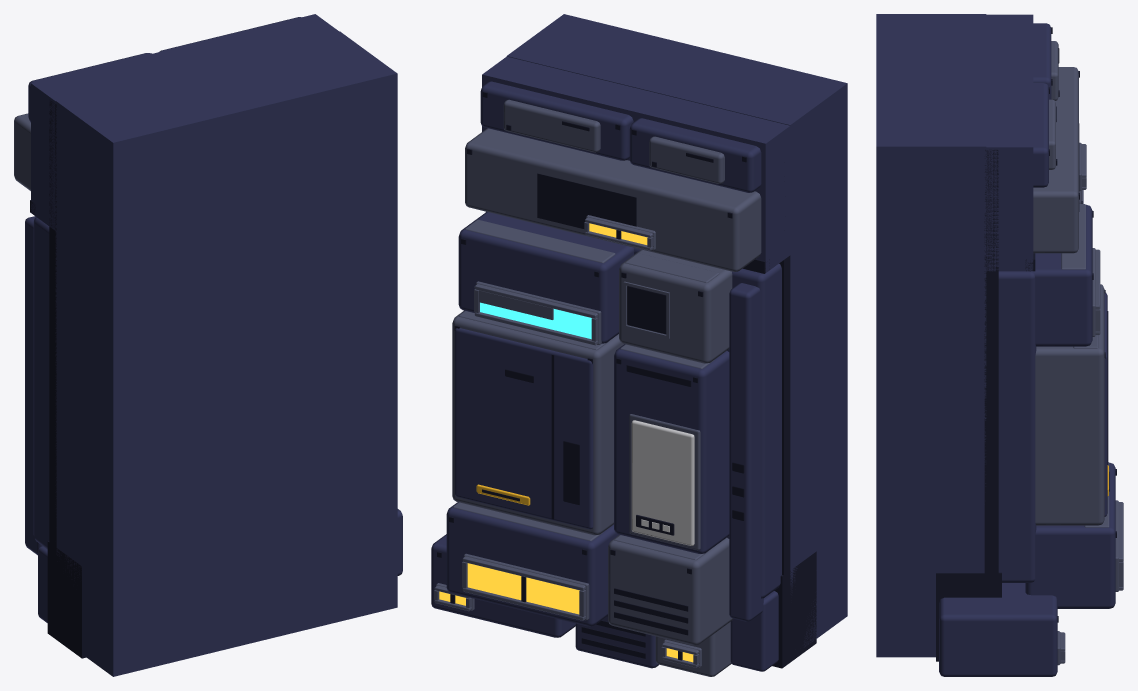
The model's file is hull.bay.navy.navy.none.mixed.w2.000.s5.k-2.35.glb.
The picture shows the model from 3 angles, left to right: view 1: azimuth 30°, elevation 25°; view 2: azimuth 150°, elevation 25°; view 3: azimuth 270°, elevation 25°; orthographic projection. The views are drawn at different scales.
Parts seen in each view (by area): view 1: hull.bay.navy.navy.none.mixed.w2.000.s5.k-2.35; view 2: hull.bay.navy.navy.none.mixed.w2.000.s5.k-2.35; view 3: hull.bay.navy.navy.none.mixed.w2.000.s5.k-2.35.
Part boxes in pixels (x1,y1,x2,y2): hull.bay.navy.navy.none.mixed.w2.000.s5.k-2.35: [14, 14, 402, 676]; hull.bay.navy.navy.none.mixed.w2.000.s5.k-2.35: [431, 14, 847, 676]; hull.bay.navy.navy.none.mixed.w2.000.s5.k-2.35: [876, 14, 1123, 676].
Bounding box in the file's own units: 2.29 × 3.72 × 1.58.
